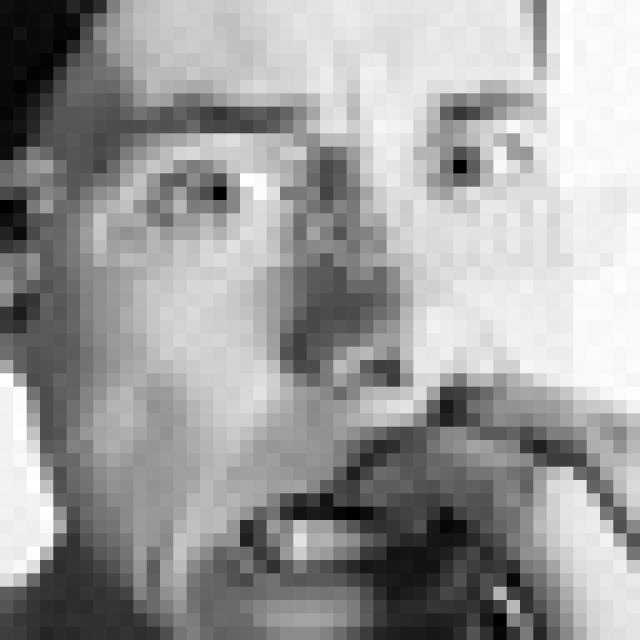fear: (107, 66, 548, 608)
